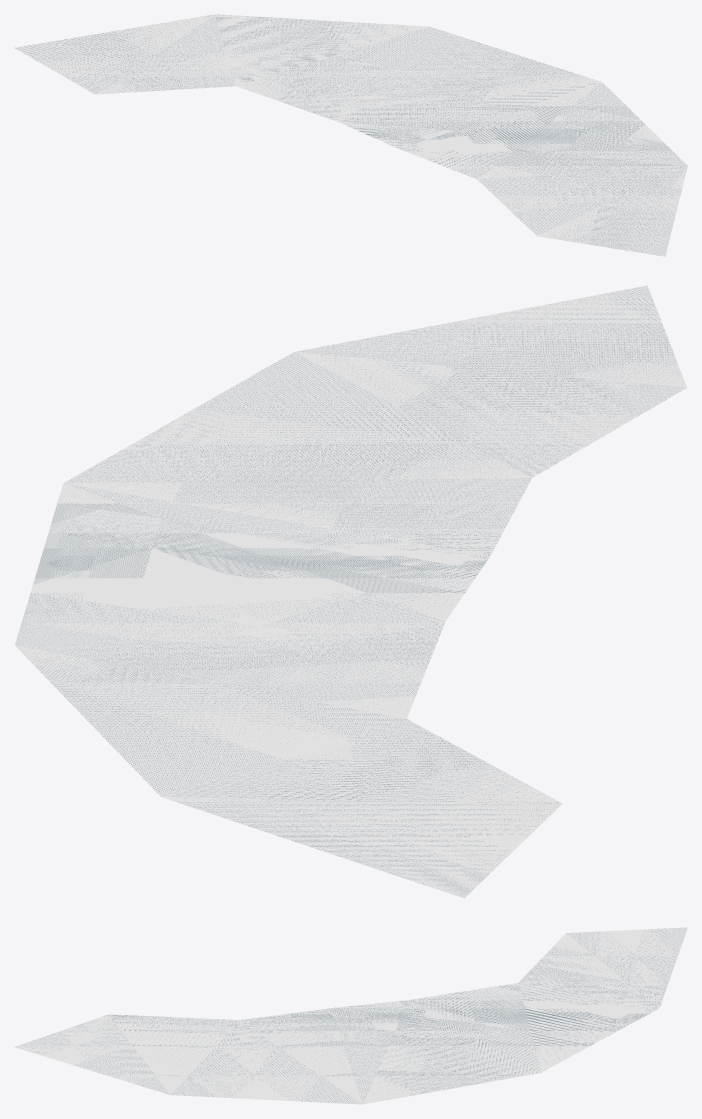
3 views of the same model, one above another, from view 1: azimuth 30°, elevation 25°; view 2: azimuth 150°, elevation 25°; view 3: azimuth 270°, elevation 25° (orthographic). The views are drawn at different scales.
Parts seen in each view (by area): view 1: Group3, Group2, Group4, Group1, Group5; view 2: Group3, Group2, Group4, Group1, Group5; view 3: Group3, Group2, Group4, Group1, Group5.
Boxes of the visible parts, x1,y1,x2,y2 form: Group3: (337,26,601,148); Group2: (400,82,687,179); Group4: (215,14,428,121); Group1: (477,166,687,256); Group5: (14,14,235,94); Group3: (15,483,490,645); Group2: (63,352,531,555); Group4: (15,621,445,796); Group1: (294,285,686,477); Group5: (161,719,562,898); Group3: (330,1000,540,1104); Group2: (171,1008,362,1104); Group4: (409,983,658,1072); Group1: (14,1014,239,1094); Group5: (518,927,687,1008).
Bounding box in the file's own units: 7.8 × 0 × 12.54.
